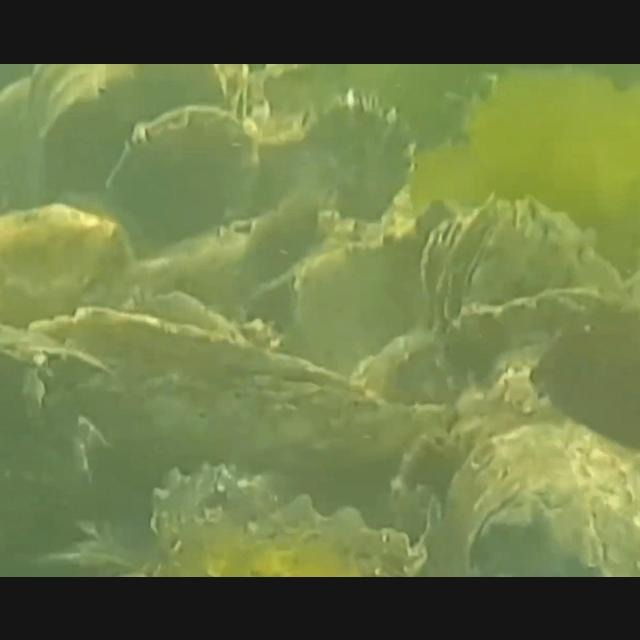Oyster-Closed: (29, 302, 383, 463), (351, 283, 640, 412), (148, 460, 430, 576), (442, 419, 640, 576), (422, 193, 602, 333), (109, 101, 261, 256), (290, 236, 430, 384), (1, 201, 138, 329), (292, 86, 414, 228), (0, 320, 116, 418)
